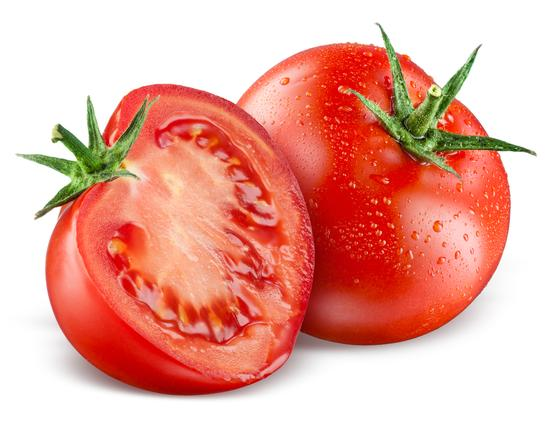tomato: (238, 46, 518, 352)
